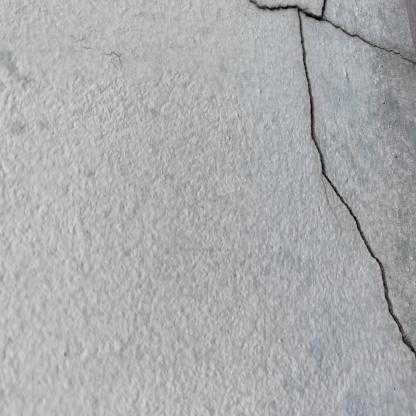crack: (249, 0, 416, 358)
